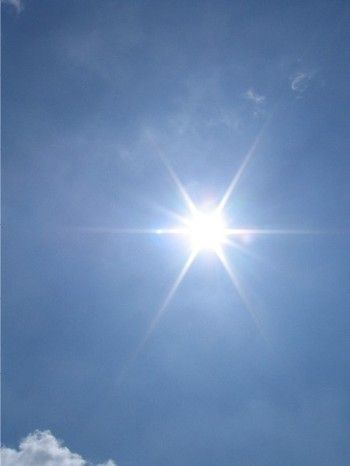sun: (157, 189, 245, 267)
